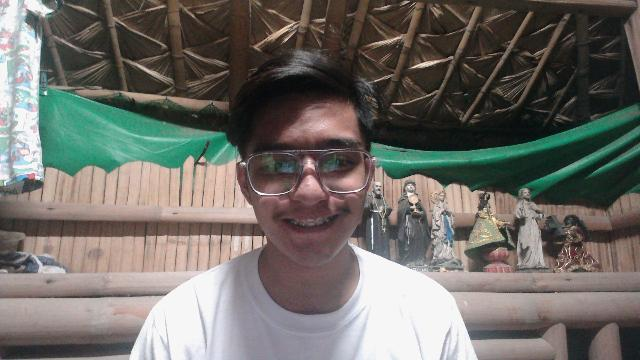senang: (233, 82, 376, 269)
